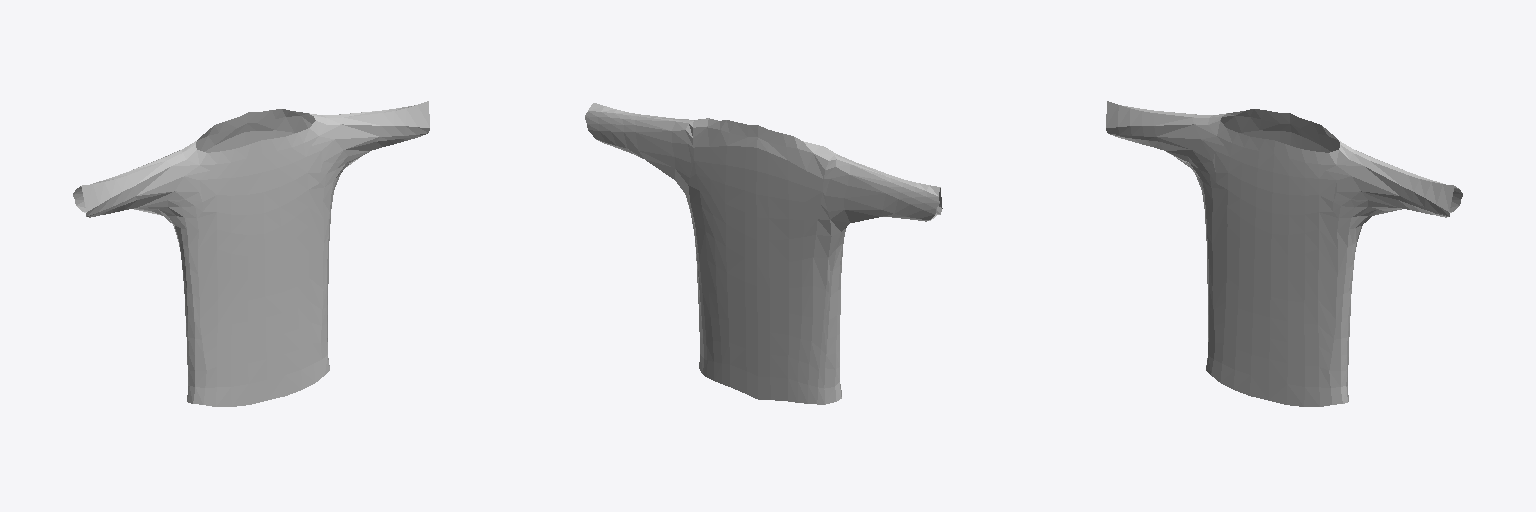
The model's file is tshirt_4.obj.
3 renders of one model, left to right at view 1: azimuth 30°, elevation 25°; view 2: azimuth 150°, elevation 25°; view 3: azimuth 330°, elevation 25°, orthographic.
Visible parts, largest first — view 1: tshirt_base_Plane.006; view 2: tshirt_base_Plane.006; view 3: tshirt_base_Plane.006.
Boxes of the visible parts, x1=… form: tshirt_base_Plane.006: x1=73, y1=101, x2=429, y2=406; tshirt_base_Plane.006: x1=585, y1=103, x2=942, y2=404; tshirt_base_Plane.006: x1=1106, y1=101, x2=1462, y2=406.
Bounding box in the file's own units: 1.57 × 1.15 × 0.1761.